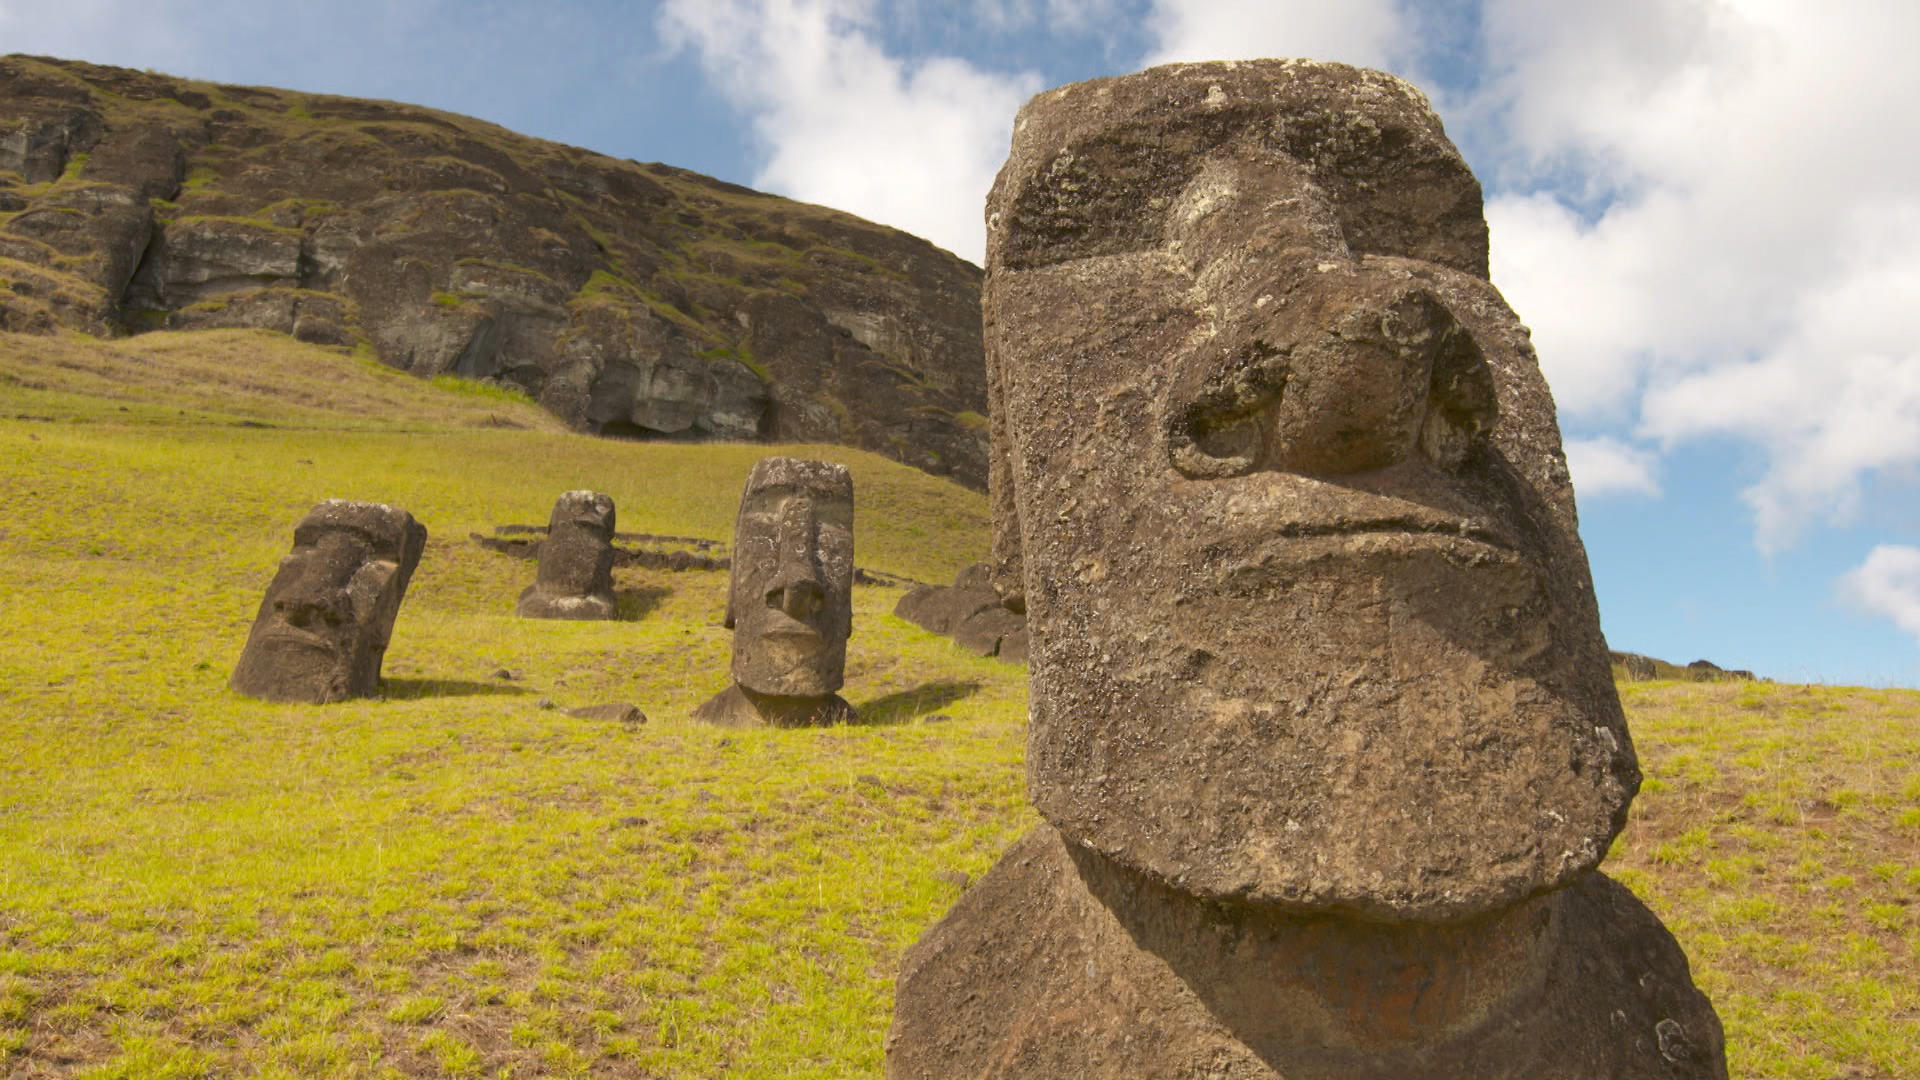person-like: (879, 46, 1738, 1080), (228, 487, 439, 724), (704, 448, 868, 731), (513, 489, 627, 631)
